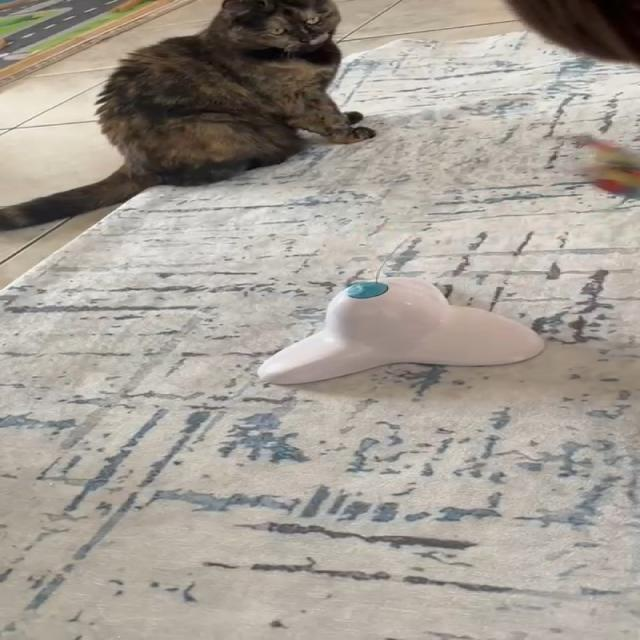authorized: (0, 0, 376, 231)
